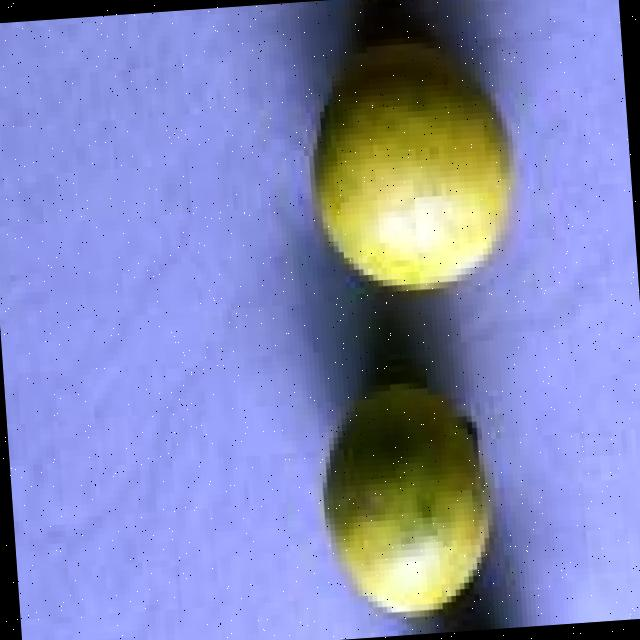Good_Lime-10-21-days: (313, 35, 520, 296), (322, 380, 498, 617)
